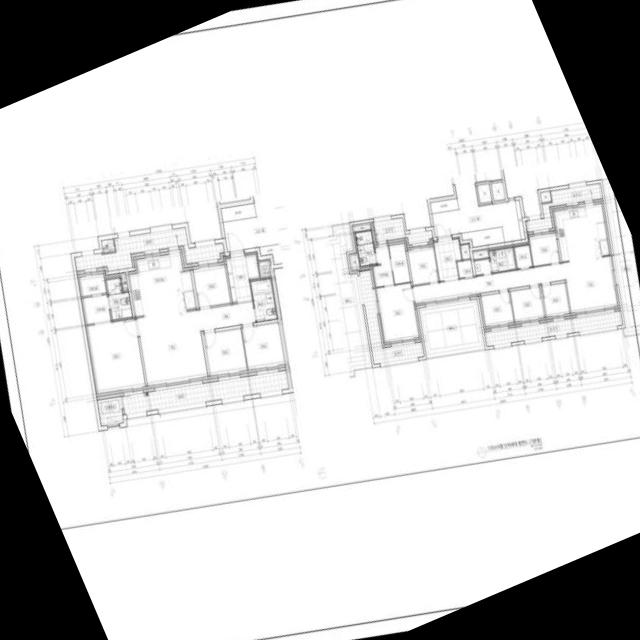background: (0, 0, 640, 640)
space_balconi: (121, 370, 288, 414), (73, 227, 223, 271), (358, 270, 423, 364), (484, 310, 621, 346), (524, 183, 601, 231), (373, 217, 432, 244)
space_bedroom: (84, 318, 145, 396), (376, 283, 420, 344), (203, 328, 247, 378), (241, 322, 285, 372), (192, 256, 230, 307), (509, 286, 544, 324), (478, 291, 513, 329), (406, 244, 438, 284), (527, 230, 559, 265), (541, 282, 569, 319)
space_dressroom: (76, 270, 110, 324), (388, 240, 409, 283), (372, 243, 393, 286)
space_elevator_hall: (431, 173, 520, 241), (222, 192, 278, 251)
space_front: (224, 251, 259, 304), (432, 236, 461, 281)
space_kitchen: (127, 251, 196, 319), (551, 201, 610, 261)
space_living_room: (412, 255, 619, 315), (137, 301, 255, 388)
space_multipurpose_space: (513, 245, 531, 268)
space_other: (460, 227, 503, 246), (220, 203, 255, 221), (102, 270, 127, 290), (259, 244, 281, 264), (429, 198, 458, 213), (514, 200, 524, 239), (456, 259, 472, 277), (476, 183, 491, 202), (473, 258, 490, 274), (491, 181, 504, 200), (257, 259, 270, 277), (348, 252, 359, 271), (100, 238, 114, 252), (472, 248, 488, 259), (459, 243, 470, 259), (351, 222, 370, 231), (539, 191, 550, 202)
space_outdoor_room: (96, 396, 123, 425)
space_toilet: (250, 278, 276, 321), (105, 277, 131, 320), (355, 230, 375, 266), (488, 247, 515, 272)
